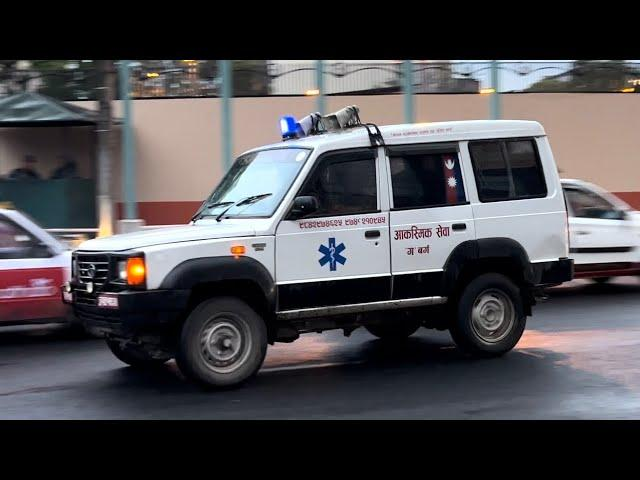ambulance: (60, 97, 577, 403)
